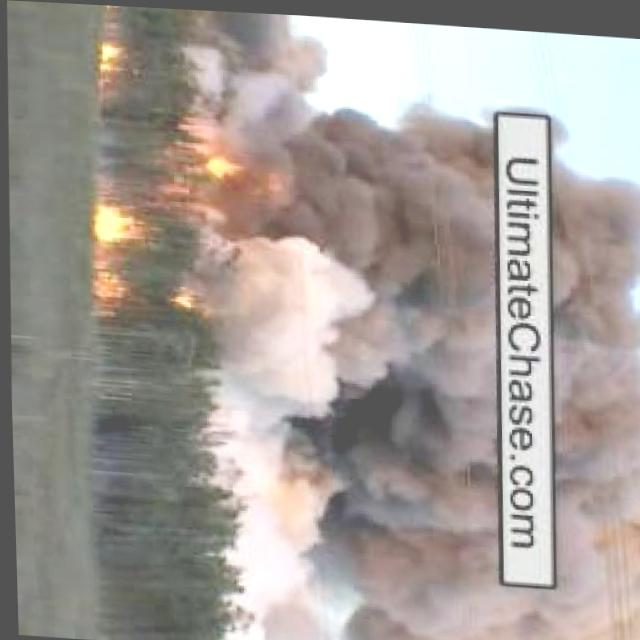helmet: (92, 251, 211, 325), (182, 152, 254, 185), (90, 208, 152, 239), (95, 43, 127, 84)
no_helmet: (221, 9, 508, 640), (540, 107, 640, 640)
